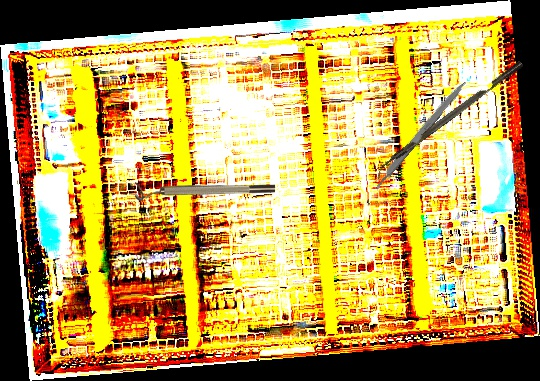Chopper: (370, 60, 530, 182)
Fixation Ring: (135, 182, 275, 201)
Scalpel Handle: (371, 78, 468, 191)
